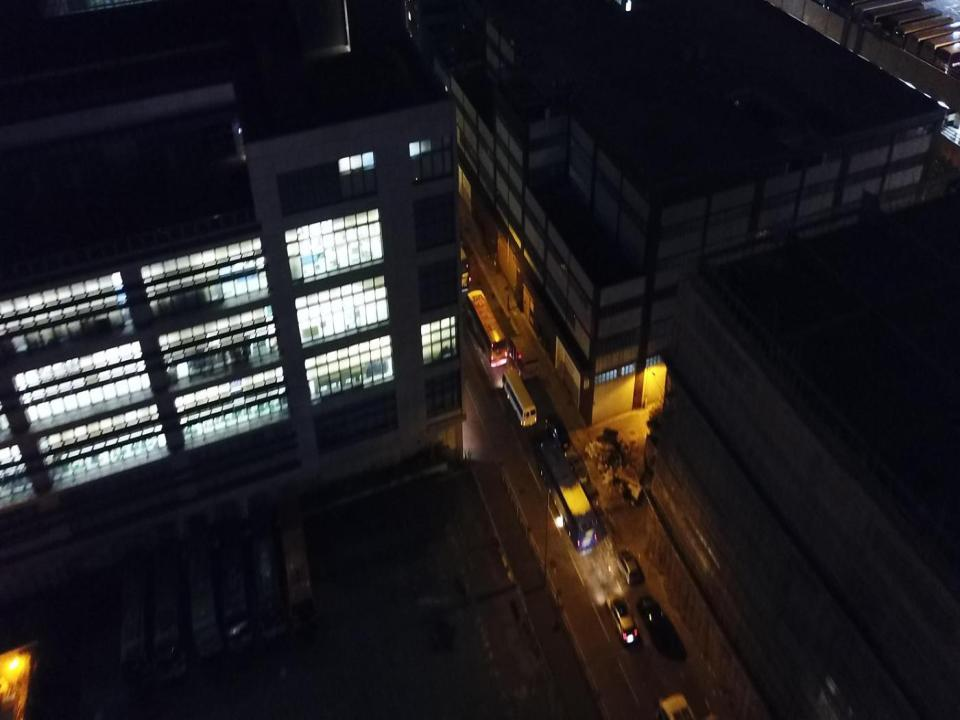bus: (535, 435, 597, 551), (466, 289, 508, 369), (432, 208, 470, 290), (904, 21, 960, 65), (888, 6, 944, 42), (503, 368, 537, 427), (864, 1, 924, 33), (899, 17, 953, 52), (853, 0, 912, 31), (919, 30, 960, 69)
car: (605, 593, 638, 646), (640, 595, 668, 641), (616, 546, 641, 586), (545, 414, 571, 449), (568, 455, 589, 487)
truck: (276, 501, 320, 630), (250, 512, 286, 642), (216, 520, 250, 649), (183, 529, 217, 656), (151, 548, 185, 675), (118, 550, 151, 677), (510, 333, 539, 382)
